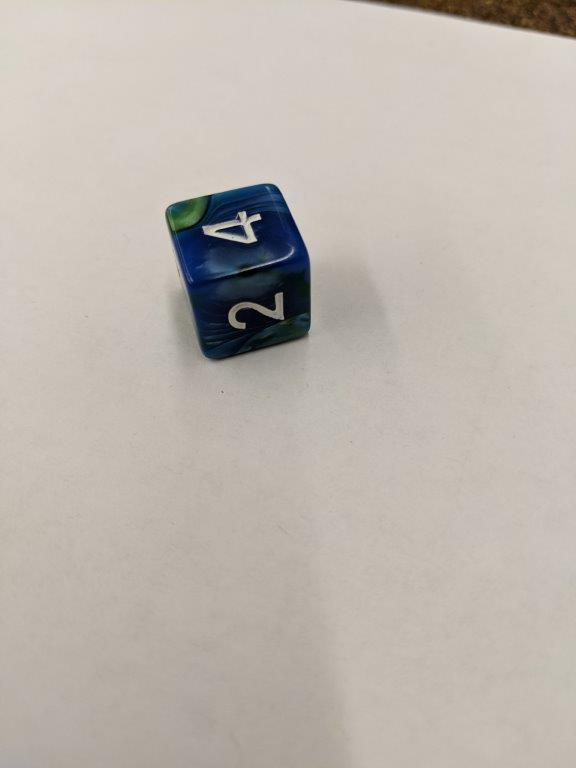d6-4: (165, 181, 311, 367)
